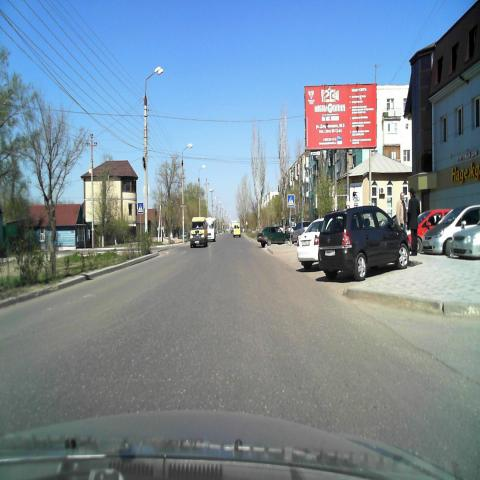5_19_1: (286, 194, 294, 208), (138, 203, 144, 214)
